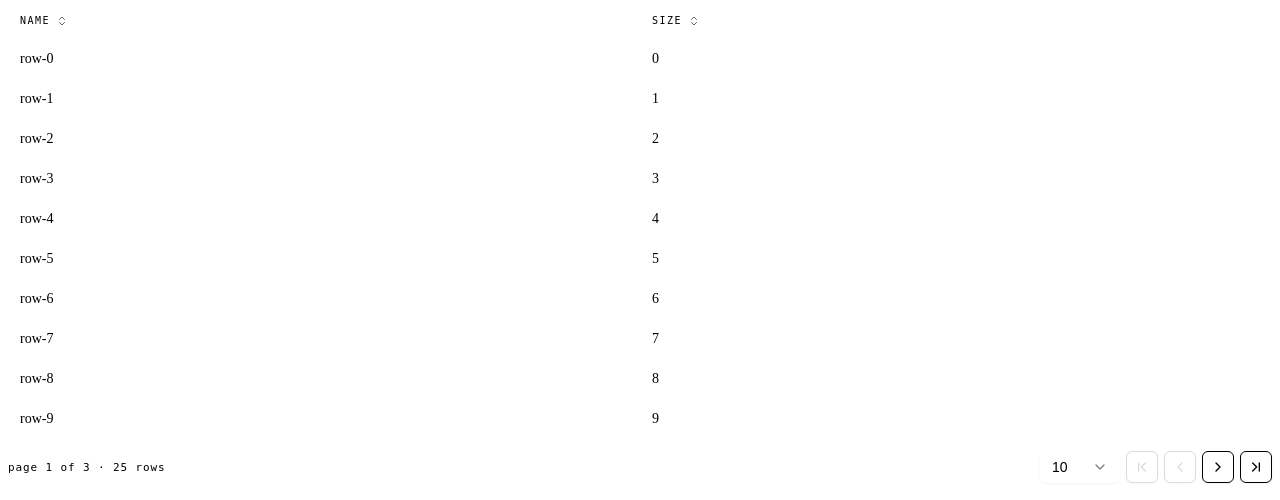
Test case: pagination › splits rows into pages and advances
This screenshot has width=1280, height=500.
Click the button named "next". click: (1218, 467)
box: [1202,451,1234,483]
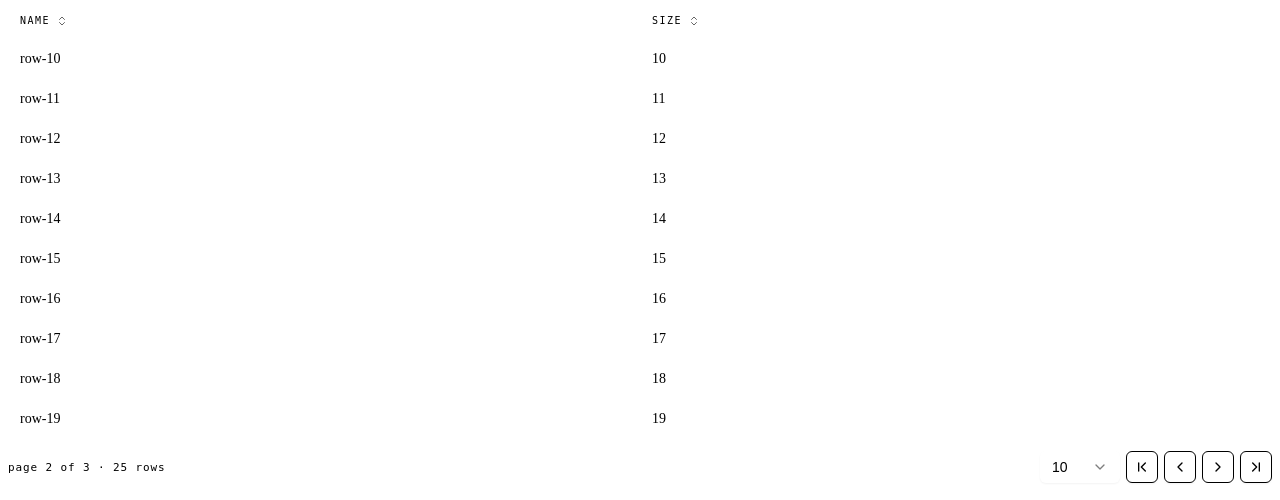
Check: the cell "row-10" is shown, box [8,39,640,79]
